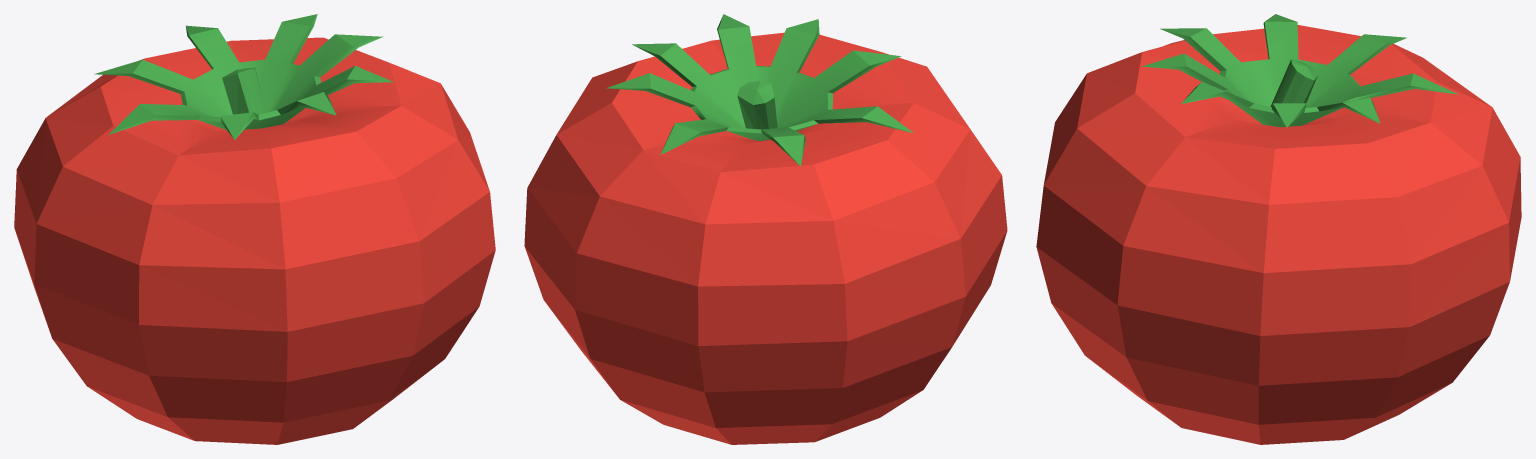
The model's file is tomaat.dae.
3 renders of one model, left to right at view 1: azimuth 30°, elevation 25°; view 2: azimuth 150°, elevation 25°; view 3: azimuth 270°, elevation 25°, orthographic. The views are drawn at different scales.
Visible parts, largest first — view 1: pasted__pSphere33_group; view 2: pasted__pSphere33_group; view 3: pasted__pSphere33_group.
Part boxes in pixels (x1=…): pasted__pSphere33_group: x1=14, y1=14, x2=495, y2=444; pasted__pSphere33_group: x1=524, y1=14, x2=1007, y2=444; pasted__pSphere33_group: x1=1036, y1=14, x2=1521, y2=444.
Bounding box in the file's own units: 0.8575 × 0.8345 × 0.6602.
